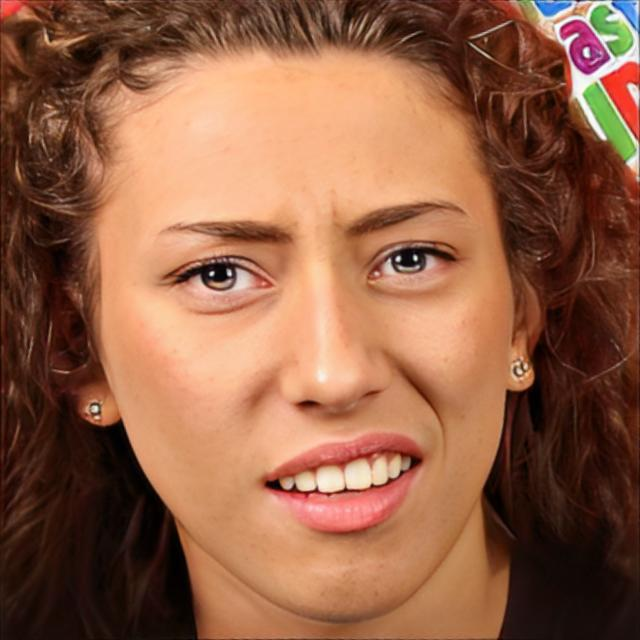disgust: (96, 41, 512, 624)
